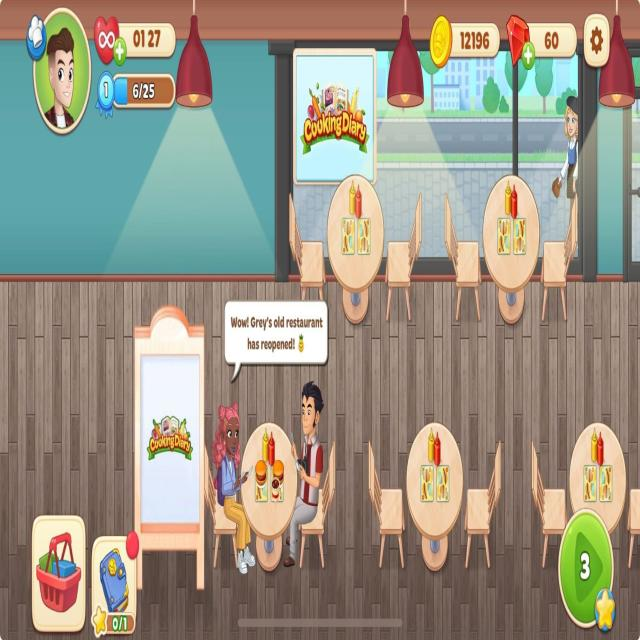billboard: (138, 346, 202, 540), (295, 50, 375, 184)
